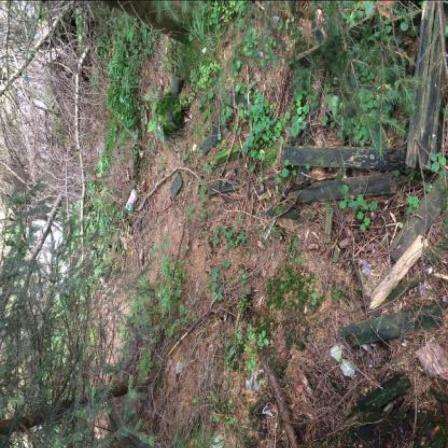Can: (127, 188, 141, 212)
Unlabeled litter: (264, 216, 278, 240)
